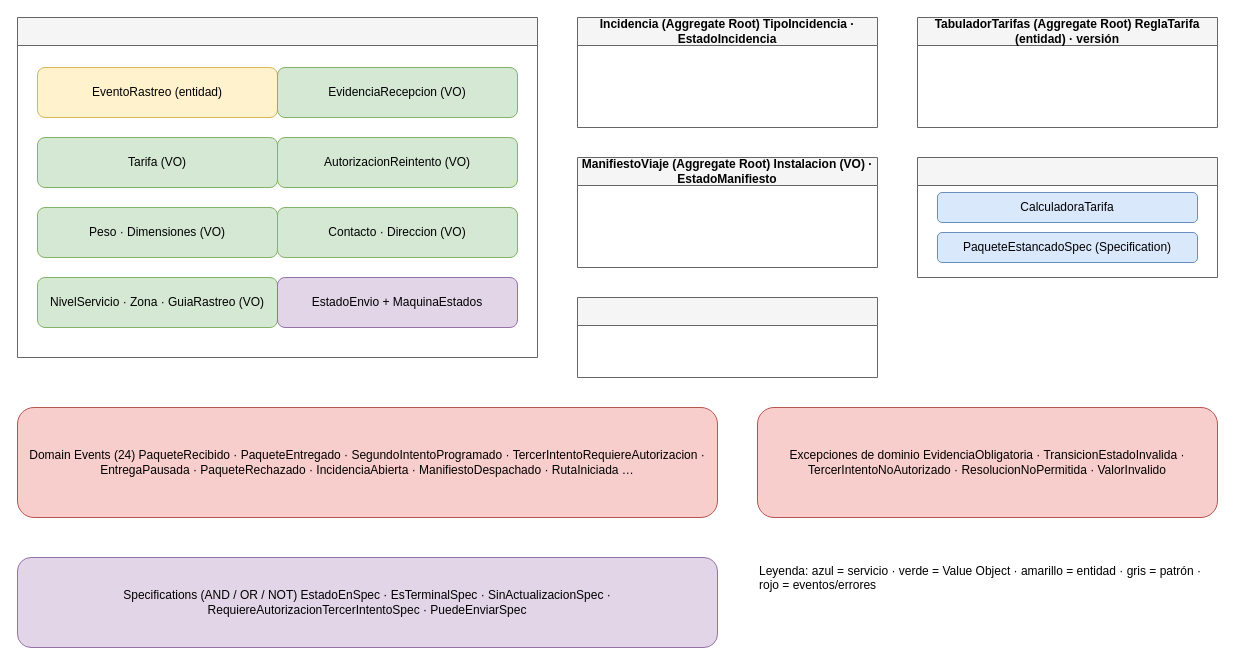
The diagram is 1235 pixels wide and 665 high, and some of its shapes have lost their labels. The shapes that lost their labels are listed below. From the top down, each one's box as (x1, y1, x2, y2) in pixels, then its label:
(16, 16, 538, 358): Paquete (Aggregate Root · GuiaRastreo)
(916, 156, 1218, 278): Servicios de dominio
(576, 296, 878, 378): RutaReparto (Aggregate Root) EstadoRuta
